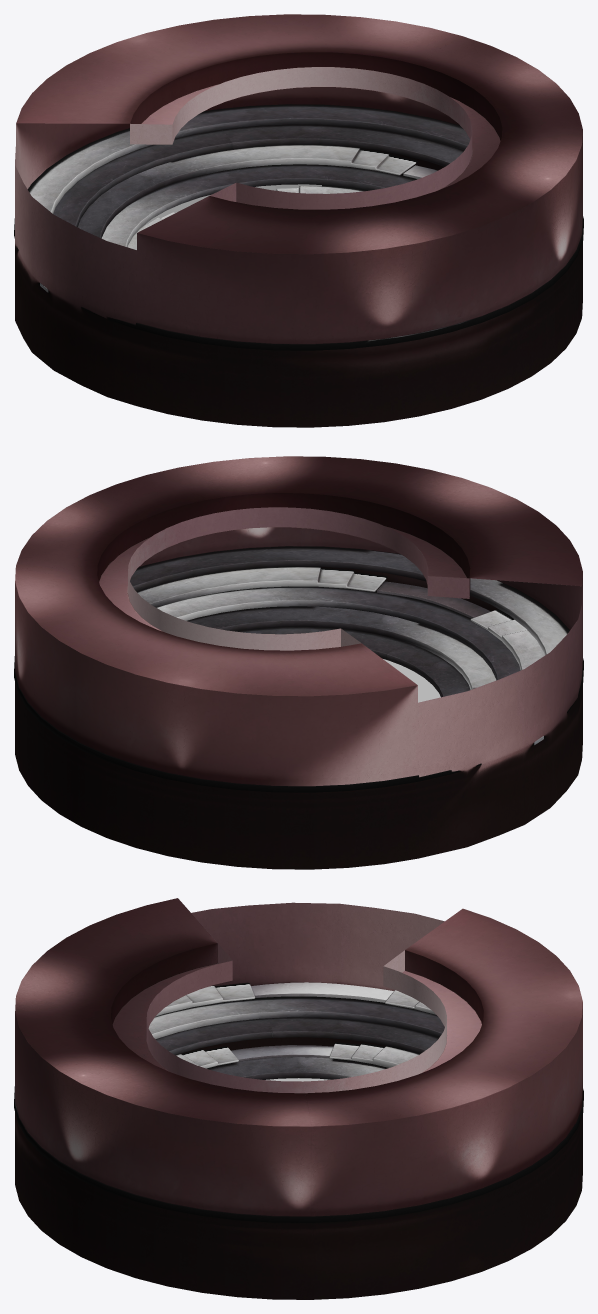
File: badge.gltf
The picture shows the model from 3 angles, top to bottom: view 1: azimuth 30°, elevation 25°; view 2: azimuth 150°, elevation 25°; view 3: azimuth 270°, elevation 25°; orthographic projection.
Visible parts, largest first — view 1: wall_ext, stairs, floor; view 2: wall_ext, stairs, white_stairs, floor; view 3: wall_ext, stairs, white_stairs.
Boxes of the visible parts, x1,y1,x2,y2 form: wall_ext: [15, 14, 582, 427]; stairs: [14, 104, 583, 350]; floor: [146, 184, 321, 223]; wall_ext: [15, 456, 582, 869]; stairs: [14, 546, 583, 792]; white_stairs: [376, 581, 543, 744]; floor: [383, 659, 440, 702]; wall_ext: [15, 898, 582, 1299]; stairs: [14, 983, 583, 1222]; white_stairs: [231, 982, 393, 1061].
Bounding box in the file's own units: 29.48 × 9.86 × 29.38.
